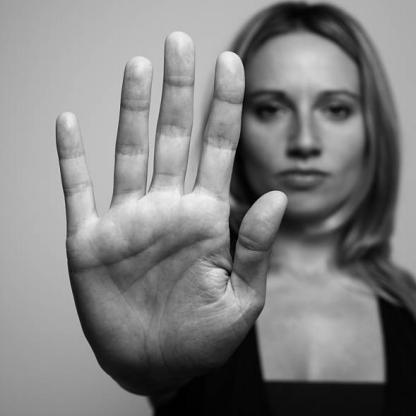stop: (52, 24, 289, 394)
